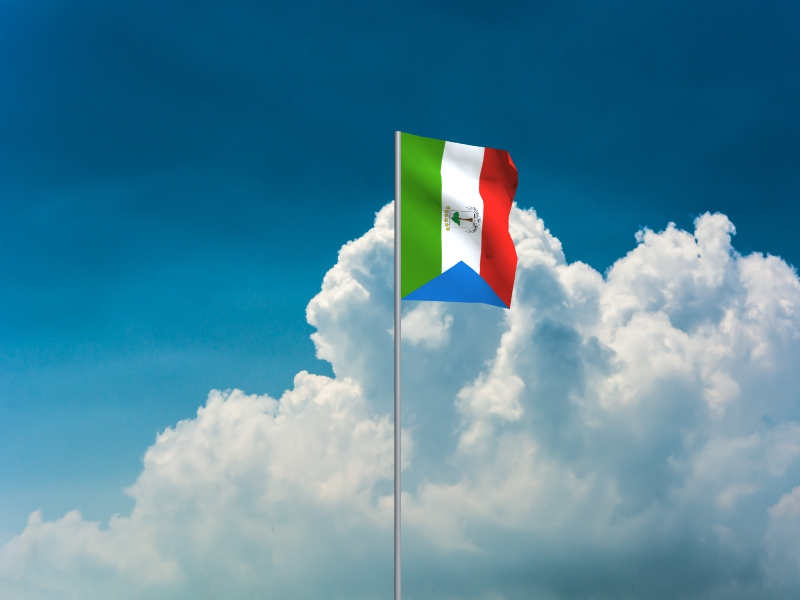gq: (402, 133, 521, 311)
